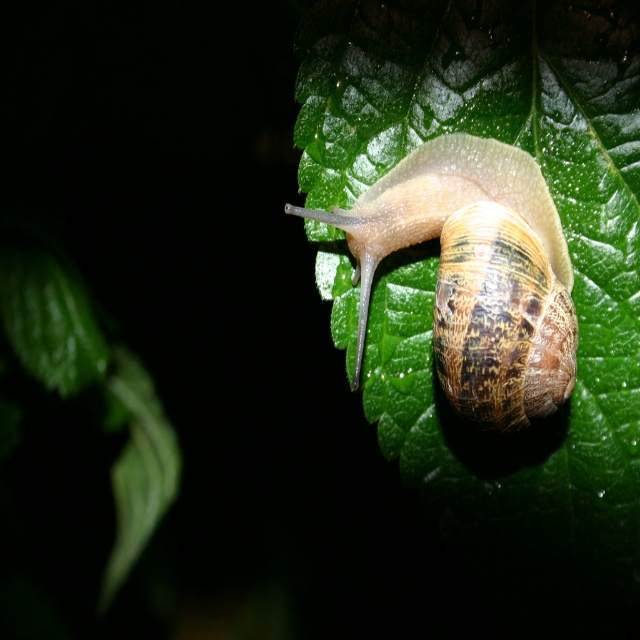Snail: (282, 132, 581, 443)
